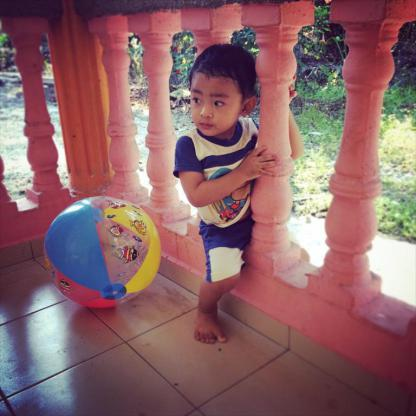Ball: (44, 194, 161, 312)
